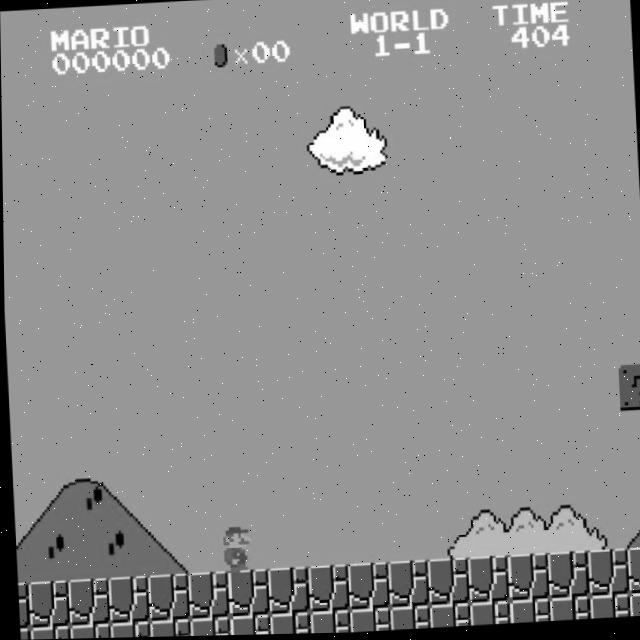11- little_mario: (210, 524, 256, 575)
13- mystery_block: (616, 366, 640, 413)
17- undestructible_block: (25, 580, 69, 628), (145, 574, 188, 622), (225, 569, 268, 617), (265, 567, 308, 615), (305, 565, 348, 613), (345, 563, 388, 611), (385, 561, 428, 609), (425, 559, 468, 607), (465, 557, 508, 605), (545, 553, 588, 601), (65, 578, 108, 625), (105, 576, 148, 623), (185, 572, 228, 619), (505, 555, 548, 602), (585, 551, 628, 598), (307, 610, 349, 635), (347, 609, 389, 634), (427, 604, 469, 629), (467, 602, 509, 627), (507, 600, 549, 625), (547, 598, 589, 623), (587, 596, 629, 621), (387, 607, 429, 631), (227, 614, 269, 636), (267, 613, 309, 635), (187, 617, 229, 637), (147, 619, 189, 638), (107, 621, 149, 638), (625, 549, 640, 596), (67, 623, 109, 639), (27, 625, 69, 640), (16, 582, 28, 628), (627, 594, 640, 618), (17, 628, 28, 640)
